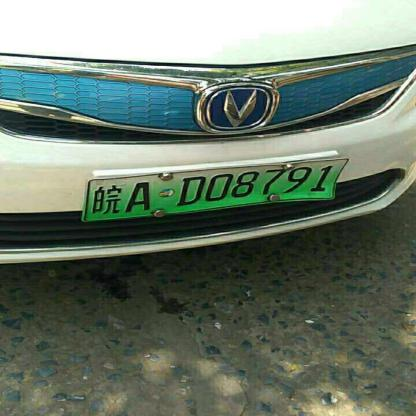lp: (89, 158, 344, 218)
